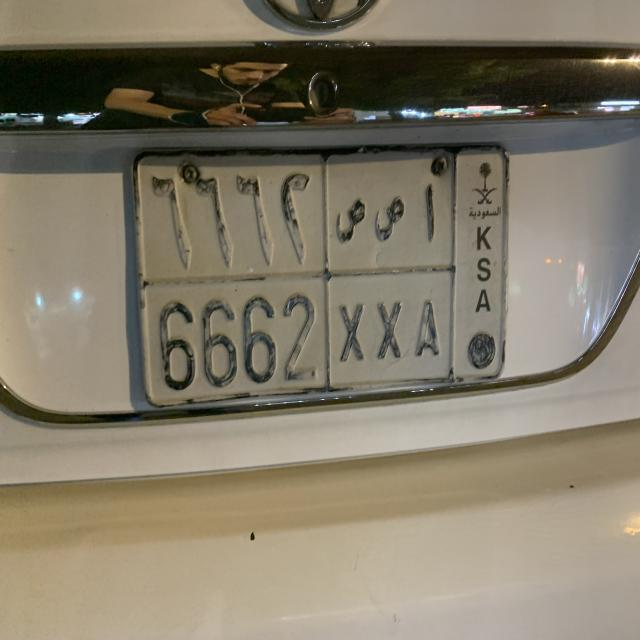license_plate: (126, 136, 517, 412)
